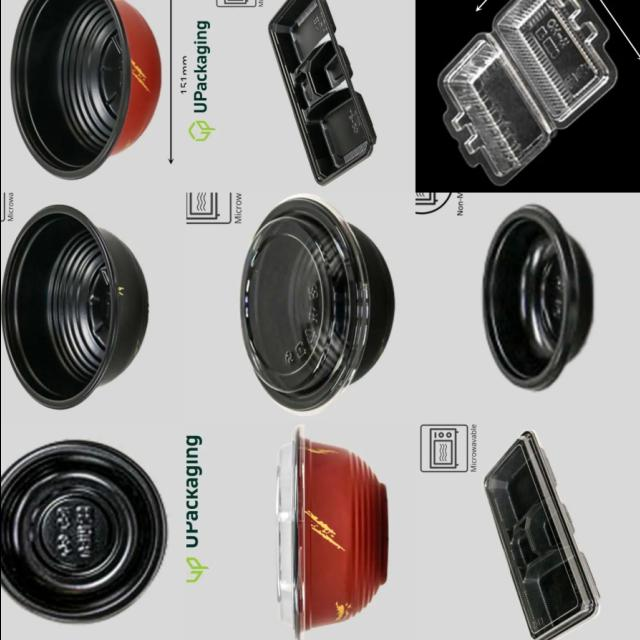plastik: (437, 0, 617, 185), (240, 196, 393, 412), (0, 440, 165, 623), (1, 205, 147, 409), (10, 0, 159, 180), (484, 432, 598, 640), (276, 428, 387, 640), (483, 205, 591, 390), (268, 0, 375, 185)
